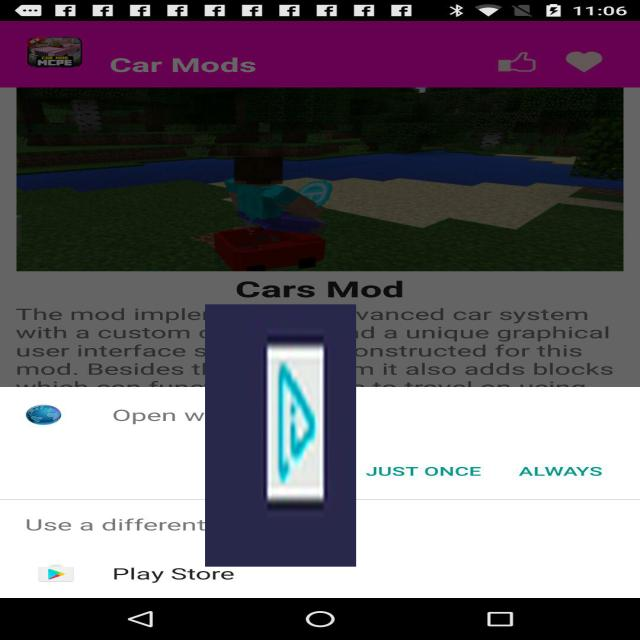sneaking: (205, 304, 356, 567)
